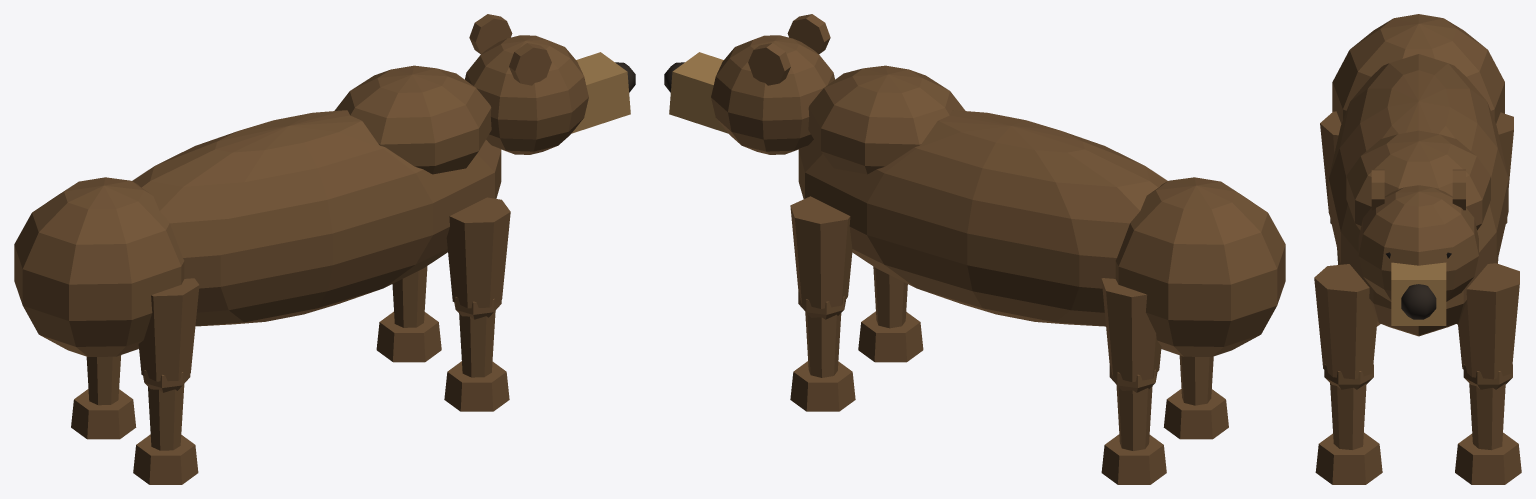
File: bear_grizzly.glb
3 renders of one model, left to right at view 1: azimuth 30°, elevation 25°; view 2: azimuth 150°, elevation 25°; view 3: azimuth 270°, elevation 25°, orthographic. The views are drawn at different scales.
Visible parts, largest first — view 1: bear_grizzly, head, leg_fr, leg_br, leg_fl, leg_bl, ear_r, ear_l; view 2: bear_grizzly, head, leg_fl, leg_bl, leg_fr, leg_br, ear_l, ear_r; view 3: bear_grizzly, head, leg_fr, leg_fl, leg_br, leg_bl, ear_r, ear_l.
Part boxes in pixels (x1,y1,x2,y2): bear_grizzly: (14, 65, 501, 356); head: (465, 35, 635, 154); leg_fr: (444, 197, 510, 411); leg_br: (133, 278, 199, 484); leg_fl: (376, 266, 441, 362); leg_bl: (71, 355, 136, 439); ear_r: (509, 43, 551, 85); ear_l: (469, 14, 512, 54); bear_grizzly: (798, 65, 1285, 356); head: (664, 35, 834, 154); leg_fl: (790, 196, 855, 411); leg_bl: (1101, 278, 1166, 484); leg_fr: (858, 266, 923, 362); leg_br: (1163, 355, 1228, 439); ear_l: (748, 43, 790, 85); ear_r: (787, 14, 830, 54); bear_grizzly: (1328, 14, 1508, 336); head: (1358, 185, 1478, 325); leg_fr: (1314, 264, 1382, 484); leg_fl: (1455, 263, 1521, 484); leg_br: (1320, 111, 1380, 326); leg_bl: (1457, 112, 1513, 324); ear_r: (1371, 169, 1384, 210); ear_l: (1452, 169, 1465, 210).
Size of the model in its own units: 2.49 by 1.28 by 0.7163.
